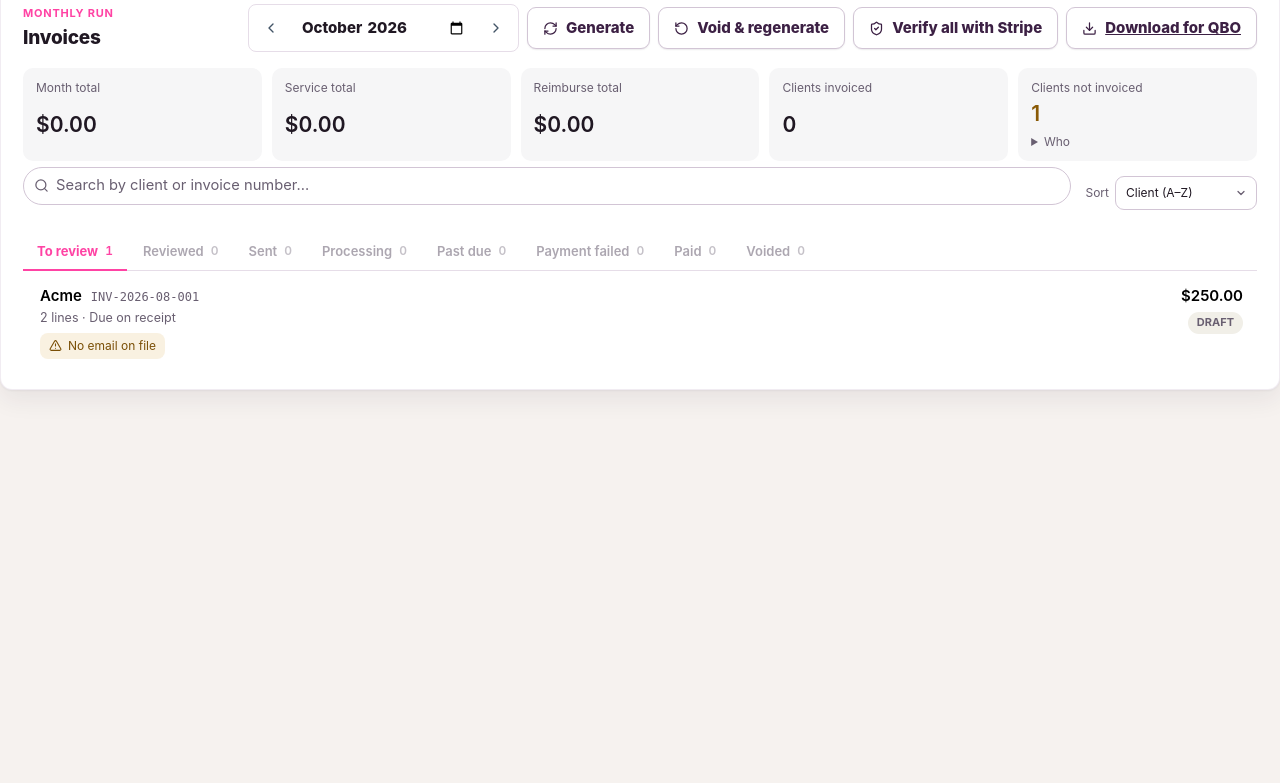
Test: InvoiceMonthRun — the ad hoc block › sets ad hoc work off under its own heading
The width and height of the screenshot is (1280, 783).
Click the text "INV-2026-08-001" at (145, 298), box [91,289,199,307]
(page scrolled)
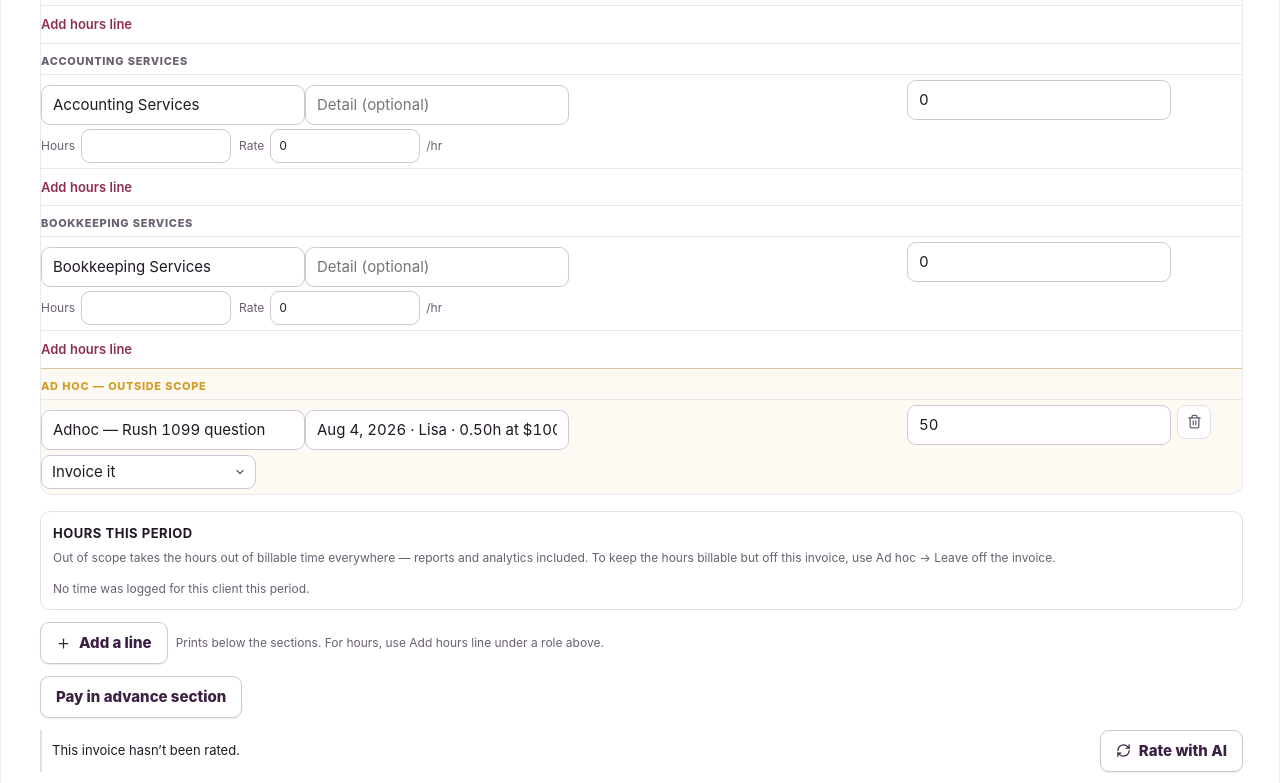
Now the column heading "Ad hoc — outside scope" is shown, box [41,368,1242,399]
